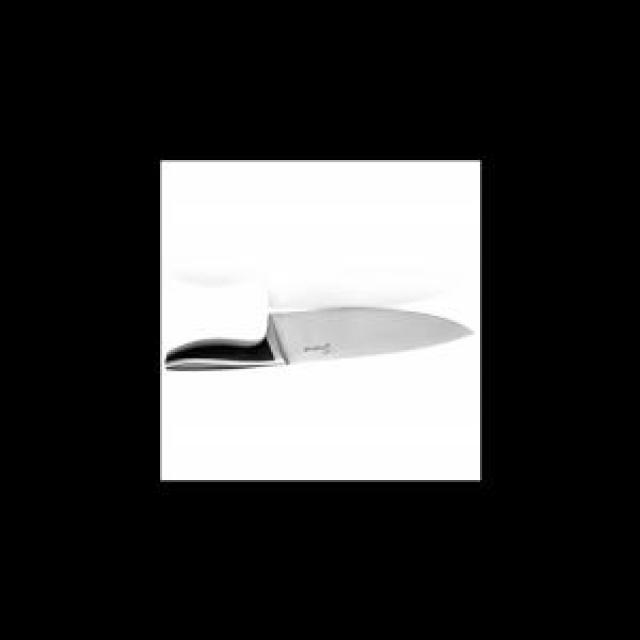knife: (164, 303, 480, 378)
